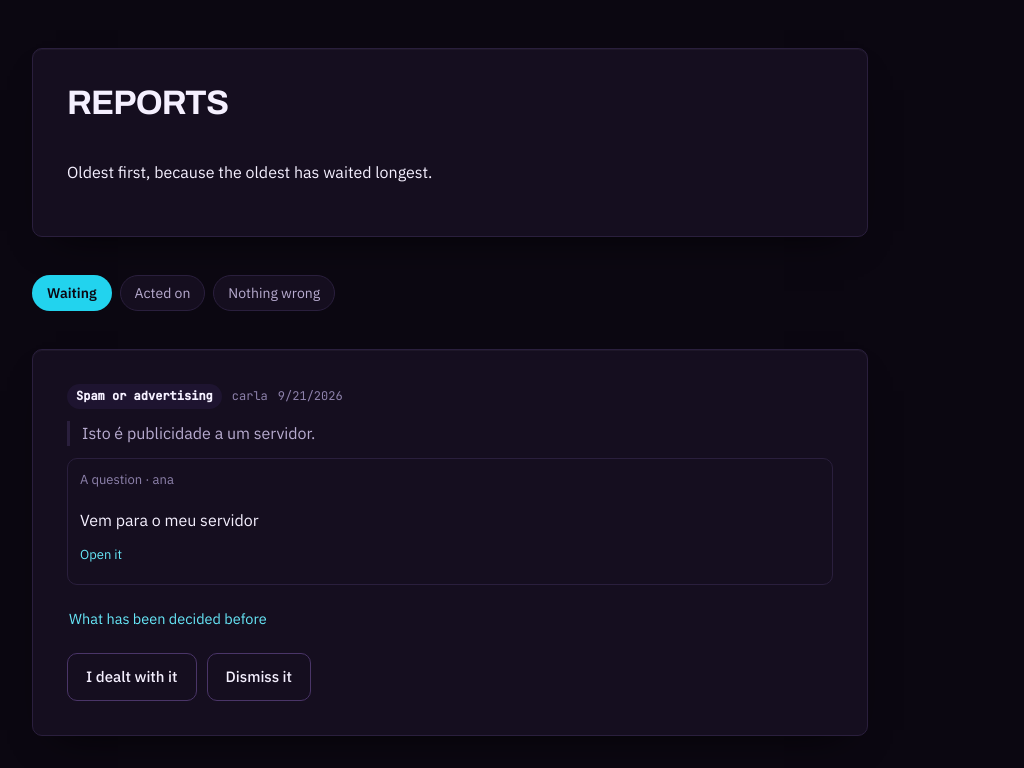
Test: o historial ao lado da denúncia › e uma falha não leva a fila atrás
Click the button "What has been decided before": (168, 619) [67,597,269,641]
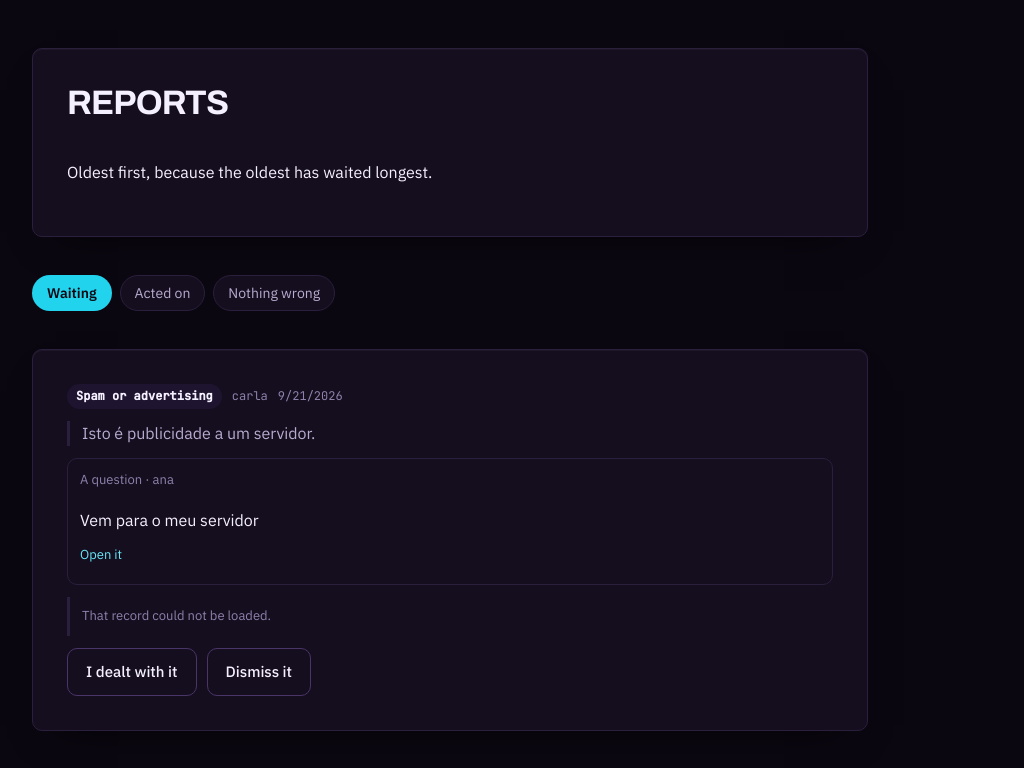
Check: the button "I dealt with it" is shown, box [67,648,196,696]
Check: the text "That record could not be loaded." is shown, box [82,607,271,624]
